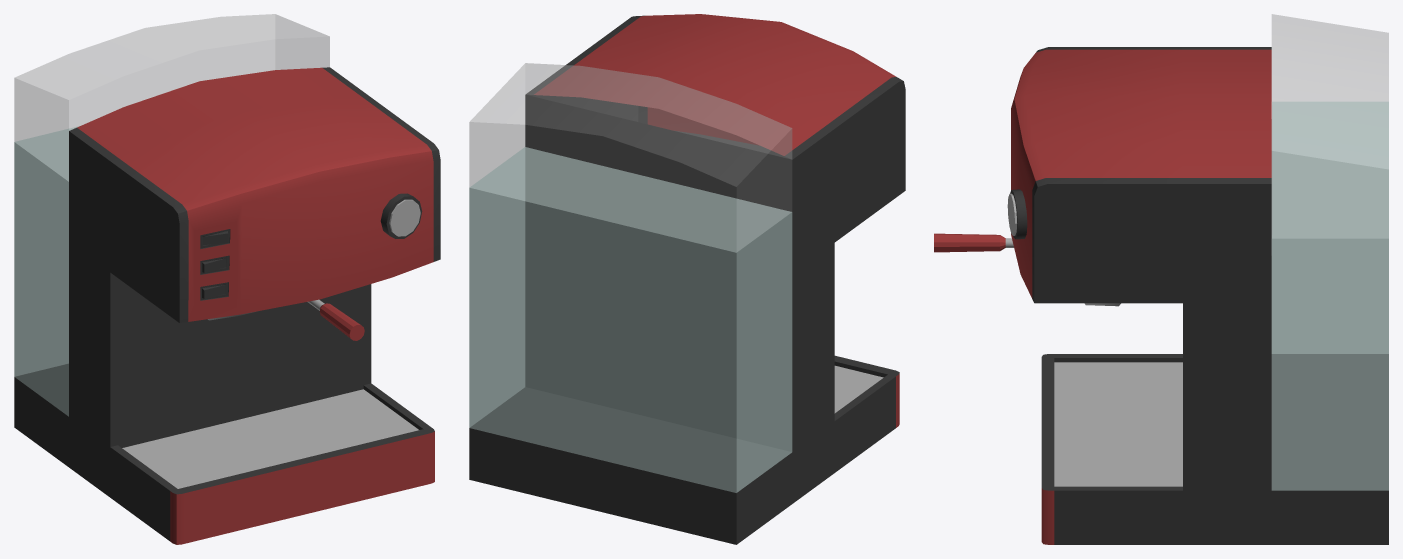
File: KahvMakinesi.fbx
3 views of the same model, side by side, from view 1: azimuth 30°, elevation 25°; view 2: azimuth 150°, elevation 25°; view 3: azimuth 270°, elevation 25° (orthographic). The views are drawn at different scales.
Parts seen in each view (by area): view 1: Cylinder005; view 2: Cylinder005; view 3: Cylinder005.
Boxes of the visible parts, left/top/right/bottom form: Cylinder005: left=14, top=14, right=440, bottom=544; Cylinder005: left=469, top=14, right=905, bottom=544; Cylinder005: left=934, top=14, right=1388, bottom=544.
Size of the model in its own units: 23.35 by 32.93 by 32.84.
